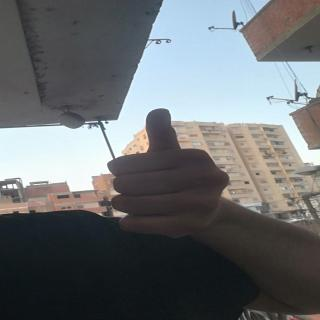ALIF: (98, 100, 250, 246)
